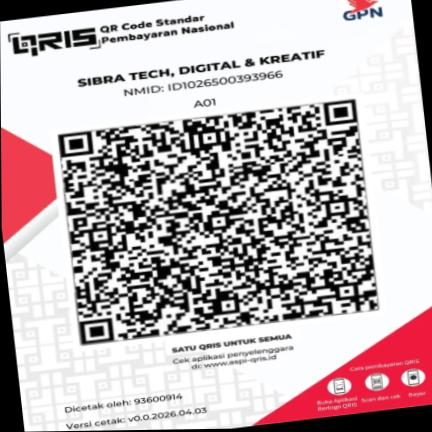Barcode_Palsu: (50, 93, 386, 351)
